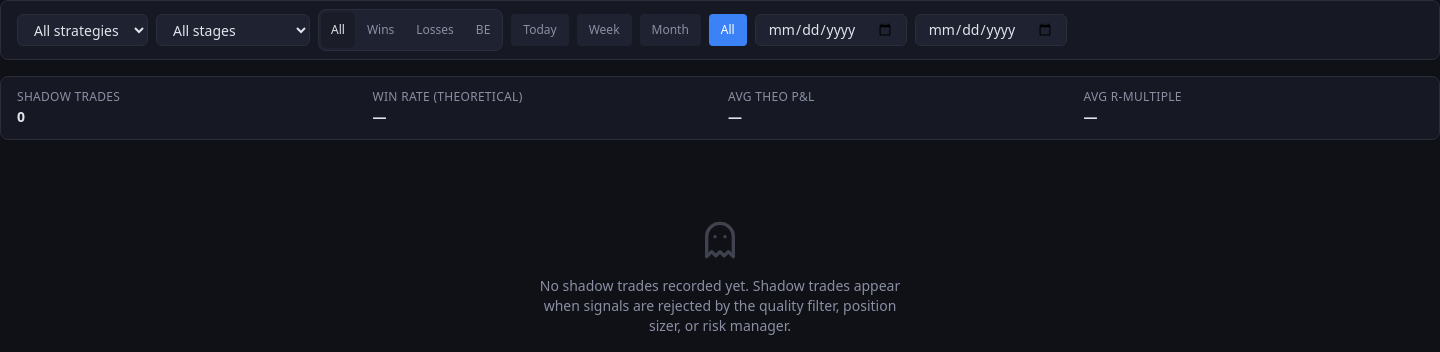
Test: ShadowTradesTab — time presets › test_time_preset_today — Today preset sets both date inputs to a non-empty date
This screenshot has width=1440, height=352.
Expected: the date field with test id "shadow-date-from" is empty, [755,14,907,46]
Expected: the date field with test id "shadow-date-to" is empty, [915,14,1067,46]
# Click Today
Click the button with test id "shadow-quick-filter-today" at (540, 30), box [511,14,569,46]
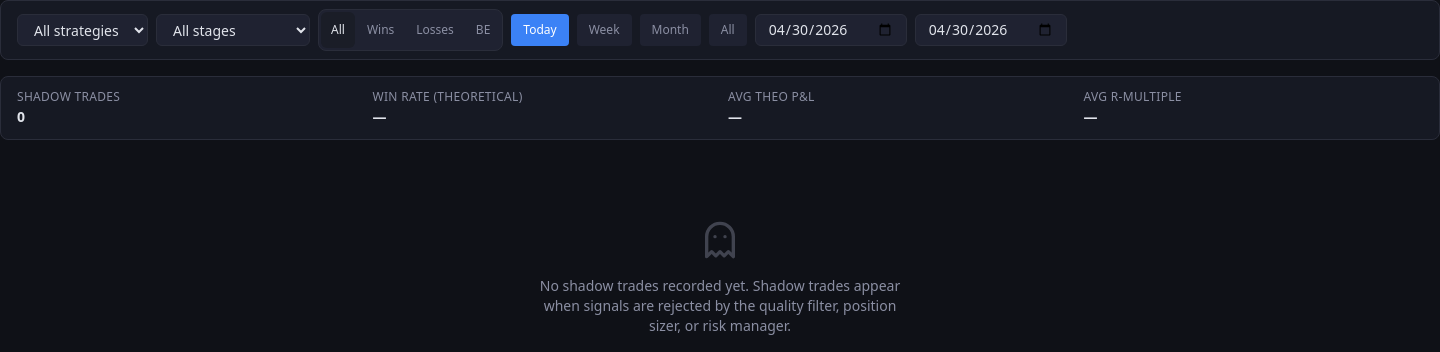
Now the date field with test id "shadow-date-from" is not empty, box [755,14,907,46]
Now the date field with test id "shadow-date-to" is not empty, box [915,14,1067,46]
